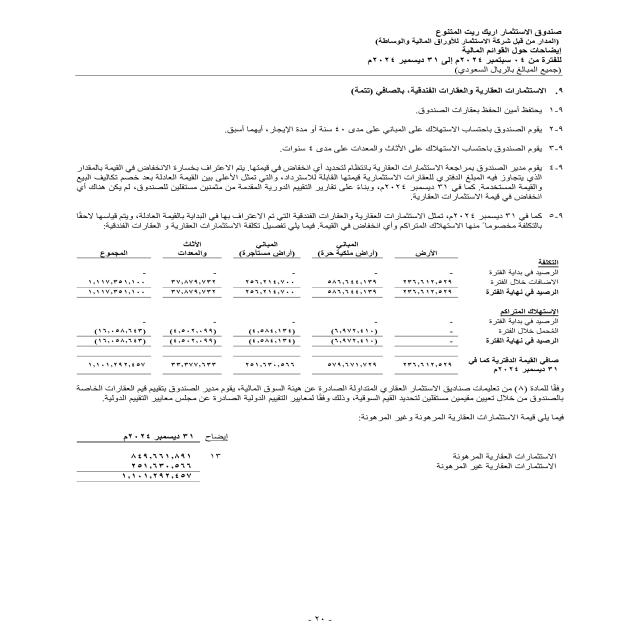notes: (455, 45, 563, 55)
table: (53, 244, 572, 386), (45, 422, 241, 497)
